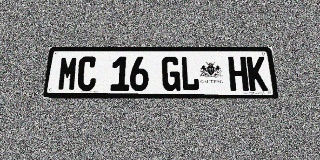1: (110, 56, 130, 91)
6: (130, 56, 149, 91)
C: (77, 56, 97, 91)
G: (162, 56, 181, 91)
H: (228, 56, 249, 91)
K: (246, 56, 268, 91)
L: (180, 56, 200, 91)
M: (57, 56, 79, 91)
